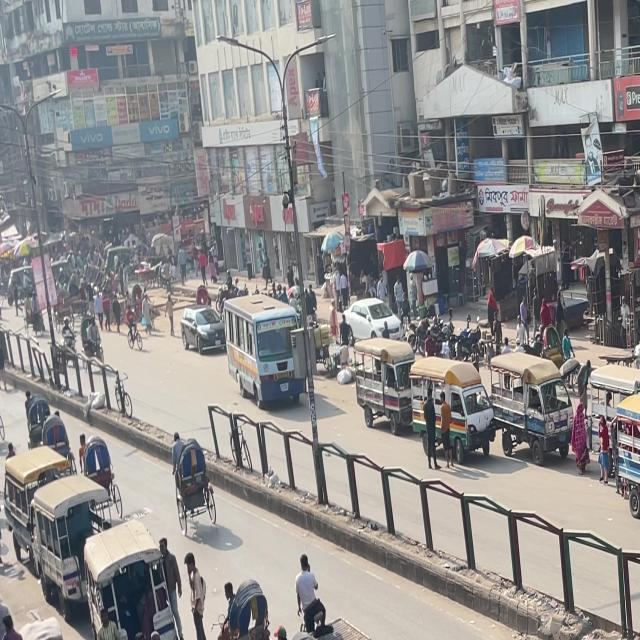bus: (224, 295, 314, 407)
car: (347, 301, 408, 344), (182, 307, 228, 354)
van: (30, 470, 120, 630), (80, 512, 191, 640), (490, 347, 577, 468), (409, 358, 499, 474), (0, 440, 74, 558), (577, 356, 640, 464), (350, 340, 420, 436), (615, 389, 640, 528)
